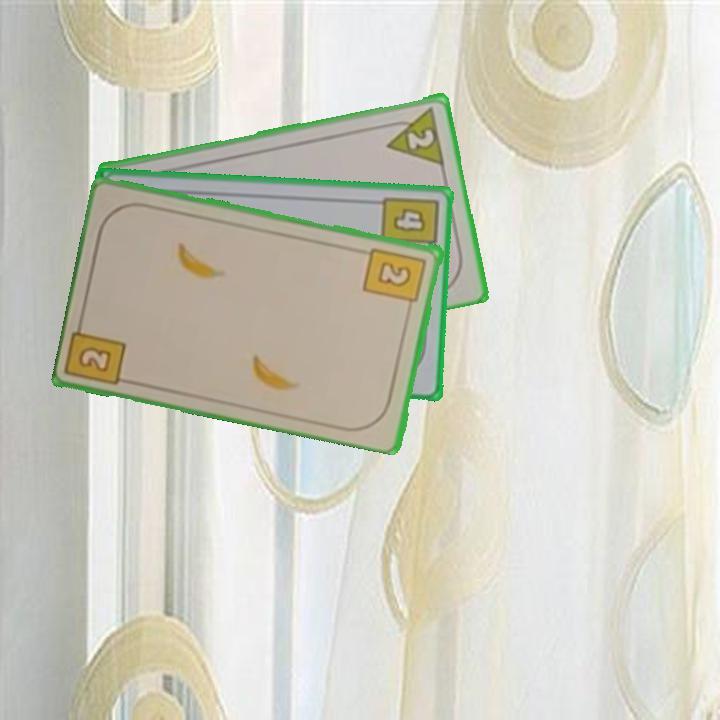2b: (361, 243, 430, 314), (75, 342, 115, 376)
2p: (379, 102, 448, 167)
4b: (378, 192, 441, 259)
